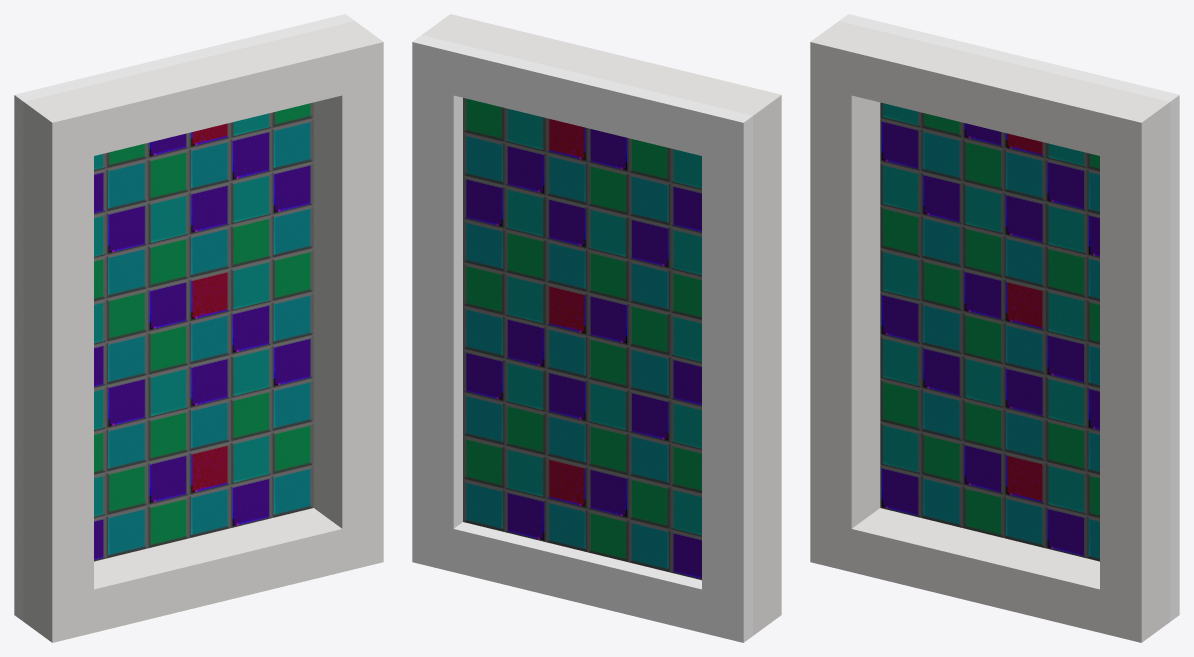
Rendered from sweethome3d-contributions-window-stain-glass-434.glb.
3 views of the same model, side by side, from view 1: azimuth 30°, elevation 25°; view 2: azimuth 150°, elevation 25°; view 3: azimuth 330°, elevation 25° (orthographic).
Parts seen in each view (by area): view 1: 1_1, 5_5, 4_4, 2_2; view 2: 5_5, 2_2, 1_1, 3_3; view 3: 1_1, 5_5, 4_4, 2_2.
Boxes of the visible parts, box(x1,y1,x2,y2) form: 1_1: box(23, 21, 383, 642); 5_5: box(94, 102, 313, 561); 4_4: box(94, 95, 342, 589); 2_2: box(14, 14, 354, 621); 5_5: box(463, 98, 701, 580); 2_2: box(412, 35, 752, 642); 1_1: box(422, 14, 781, 635); 3_3: box(453, 95, 701, 589); 1_1: box(810, 21, 1170, 642); 5_5: box(880, 102, 1099, 561); 4_4: box(851, 95, 1099, 589); 2_2: box(839, 14, 1179, 621).
Bounding box in the file's own units: 80 × 120 × 16.
3 materials, 1 textured.
